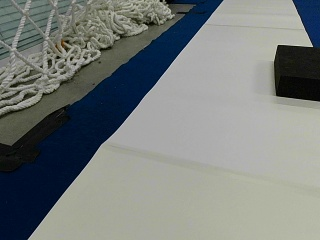block: (274, 44, 319, 101)
